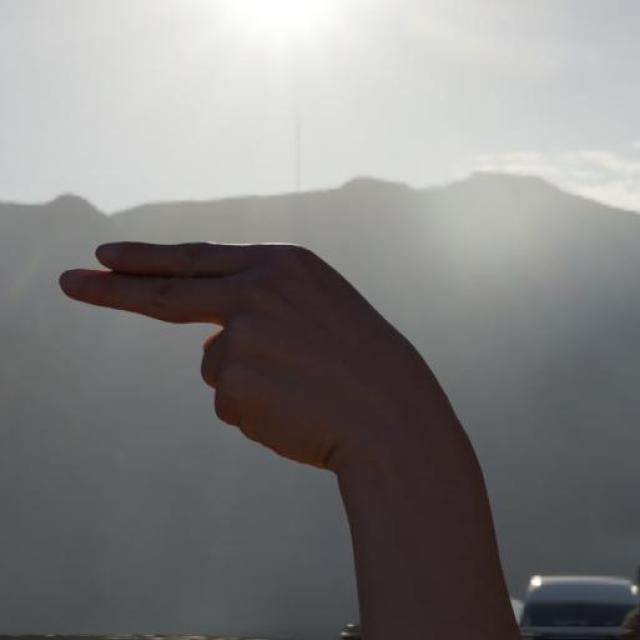H: (53, 230, 454, 479)
